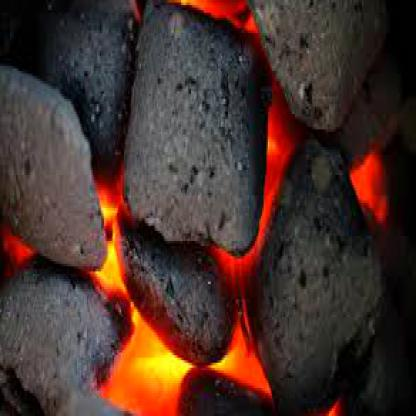Sedimentary_coal: (238, 137, 390, 401), (121, 0, 262, 259), (249, 0, 415, 140), (0, 53, 107, 269), (0, 266, 123, 414), (112, 218, 238, 355)
